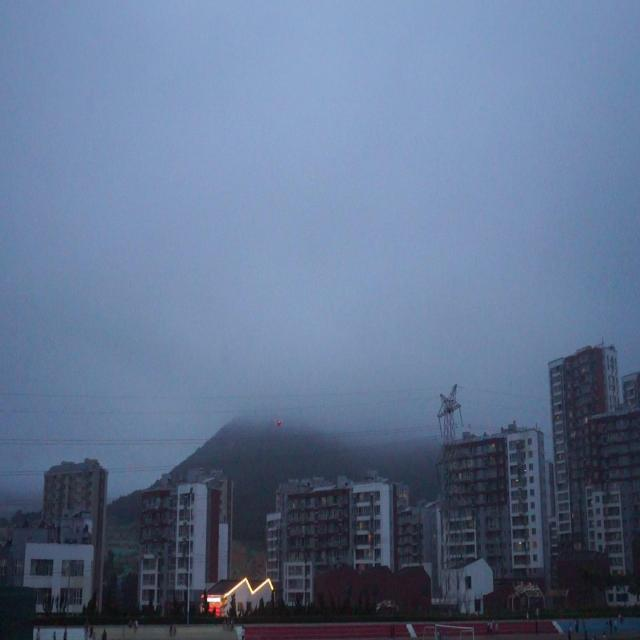drone: (273, 414, 286, 434)
